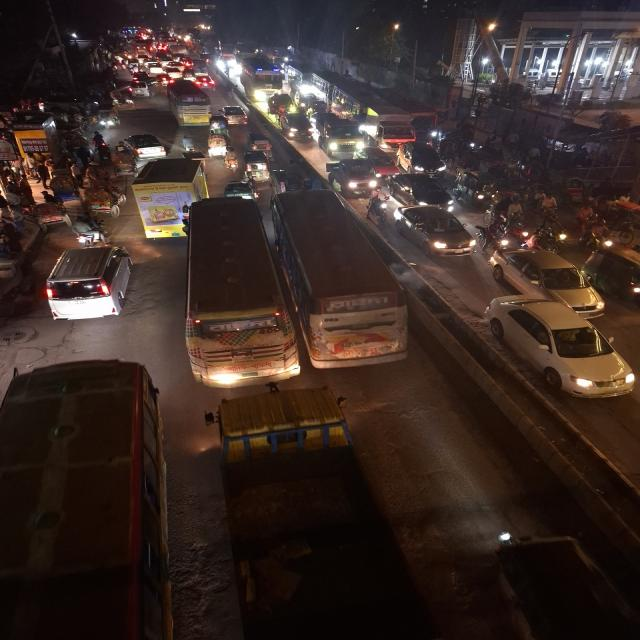bus: (1, 356, 172, 640), (272, 192, 413, 372), (182, 198, 297, 390), (130, 156, 210, 242), (314, 81, 379, 117), (165, 84, 214, 126)
car: (481, 294, 638, 402), (40, 242, 136, 324), (494, 246, 606, 312), (392, 204, 478, 260), (388, 172, 457, 212), (396, 143, 448, 175), (119, 133, 168, 159), (362, 146, 398, 177), (280, 112, 315, 142), (220, 103, 249, 126), (164, 65, 184, 79)
cng: (586, 245, 640, 306), (458, 170, 496, 206), (243, 150, 271, 182), (224, 178, 258, 200), (270, 169, 292, 193), (306, 98, 328, 116)
motorcycle: (489, 204, 534, 250), (481, 217, 524, 251), (70, 214, 109, 246), (582, 217, 616, 251), (534, 214, 570, 246), (366, 187, 390, 219), (223, 147, 238, 171), (176, 134, 196, 152)
pickup_van: (326, 158, 376, 198)
rickshaw: (77, 184, 121, 218), (29, 198, 68, 232), (560, 176, 593, 205), (92, 104, 121, 130), (206, 133, 228, 158)
truck: (316, 115, 366, 155), (240, 60, 284, 102), (372, 110, 416, 148)
